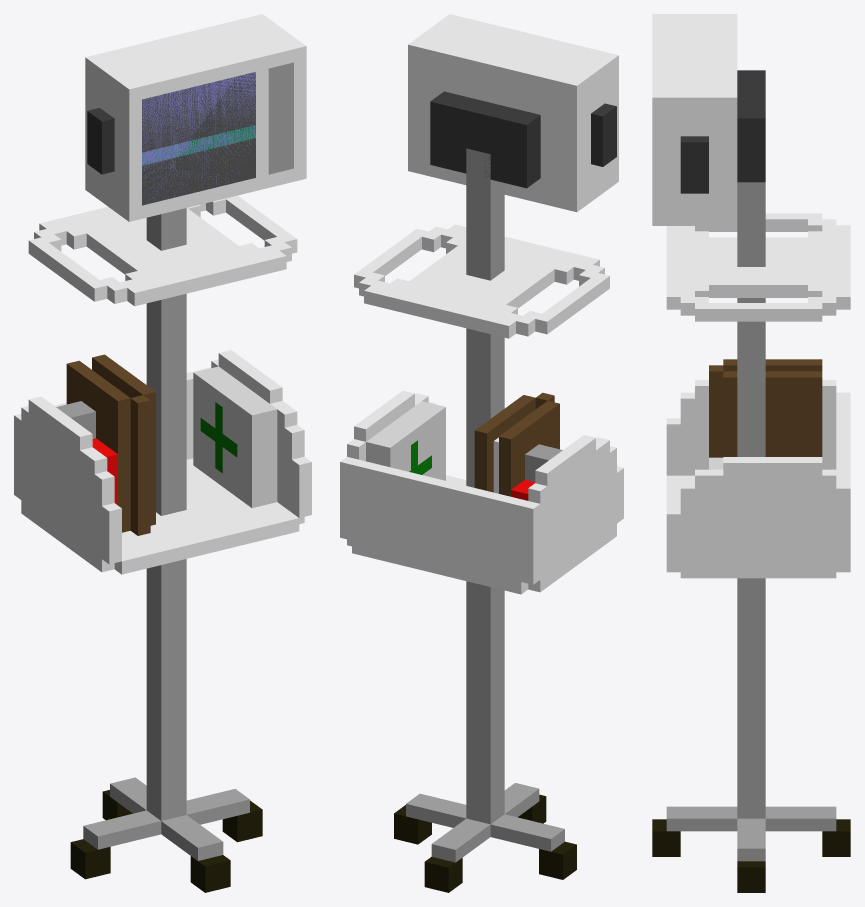
File: Operating room Equip1.fbx
3 renders of one model, left to right at view 1: azimuth 30°, elevation 25°; view 2: azimuth 150°, elevation 25°; view 3: azimuth 270°, elevation 25°, orthographic. The views are drawn at different scales.
Visible parts, largest first — view 1: Operating room Equip1.000, Operating room Equip1.001, Operating room Equip1.005, Operating room Equip1.003, Operating room Equip1.006, Operating room Equip1.010, Operating room Equip1.002; view 2: Operating room Equip1.000, Operating room Equip1.001; view 3: Operating room Equip1.000, Operating room Equip1.001.
Boxes of the visible parts, bbox=[...] form: Operating room Equip1.000: bbox=[14, 195, 311, 892]; Operating room Equip1.001: bbox=[85, 14, 306, 221]; Operating room Equip1.005: bbox=[142, 72, 255, 200]; Operating room Equip1.003: bbox=[142, 72, 255, 152]; Operating room Equip1.006: bbox=[142, 138, 255, 205]; Operating room Equip1.010: bbox=[142, 125, 255, 164]; Operating room Equip1.002: bbox=[143, 72, 255, 200]; Operating room Equip1.000: bbox=[340, 148, 623, 892]; Operating room Equip1.001: bbox=[408, 14, 618, 212]; Operating room Equip1.000: bbox=[652, 182, 850, 892]; Operating room Equip1.001: bbox=[652, 14, 765, 225].
Bounding box in the file's own units: 1.6 × 6.2 × 1.4.
